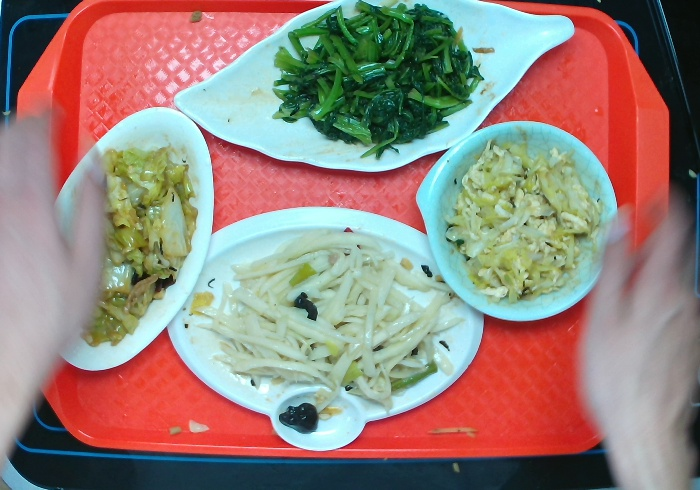RJxy-Bai_Se_Tuo_Yuan: (52, 100, 221, 376)
RJxy-Shu_Ye_Pan: (172, 1, 581, 176)
RJxy-Xiao_Jiao_Yuan_Wan: (417, 113, 624, 329)
RJxy-Zhan_Liao_Pan: (158, 200, 488, 457)
